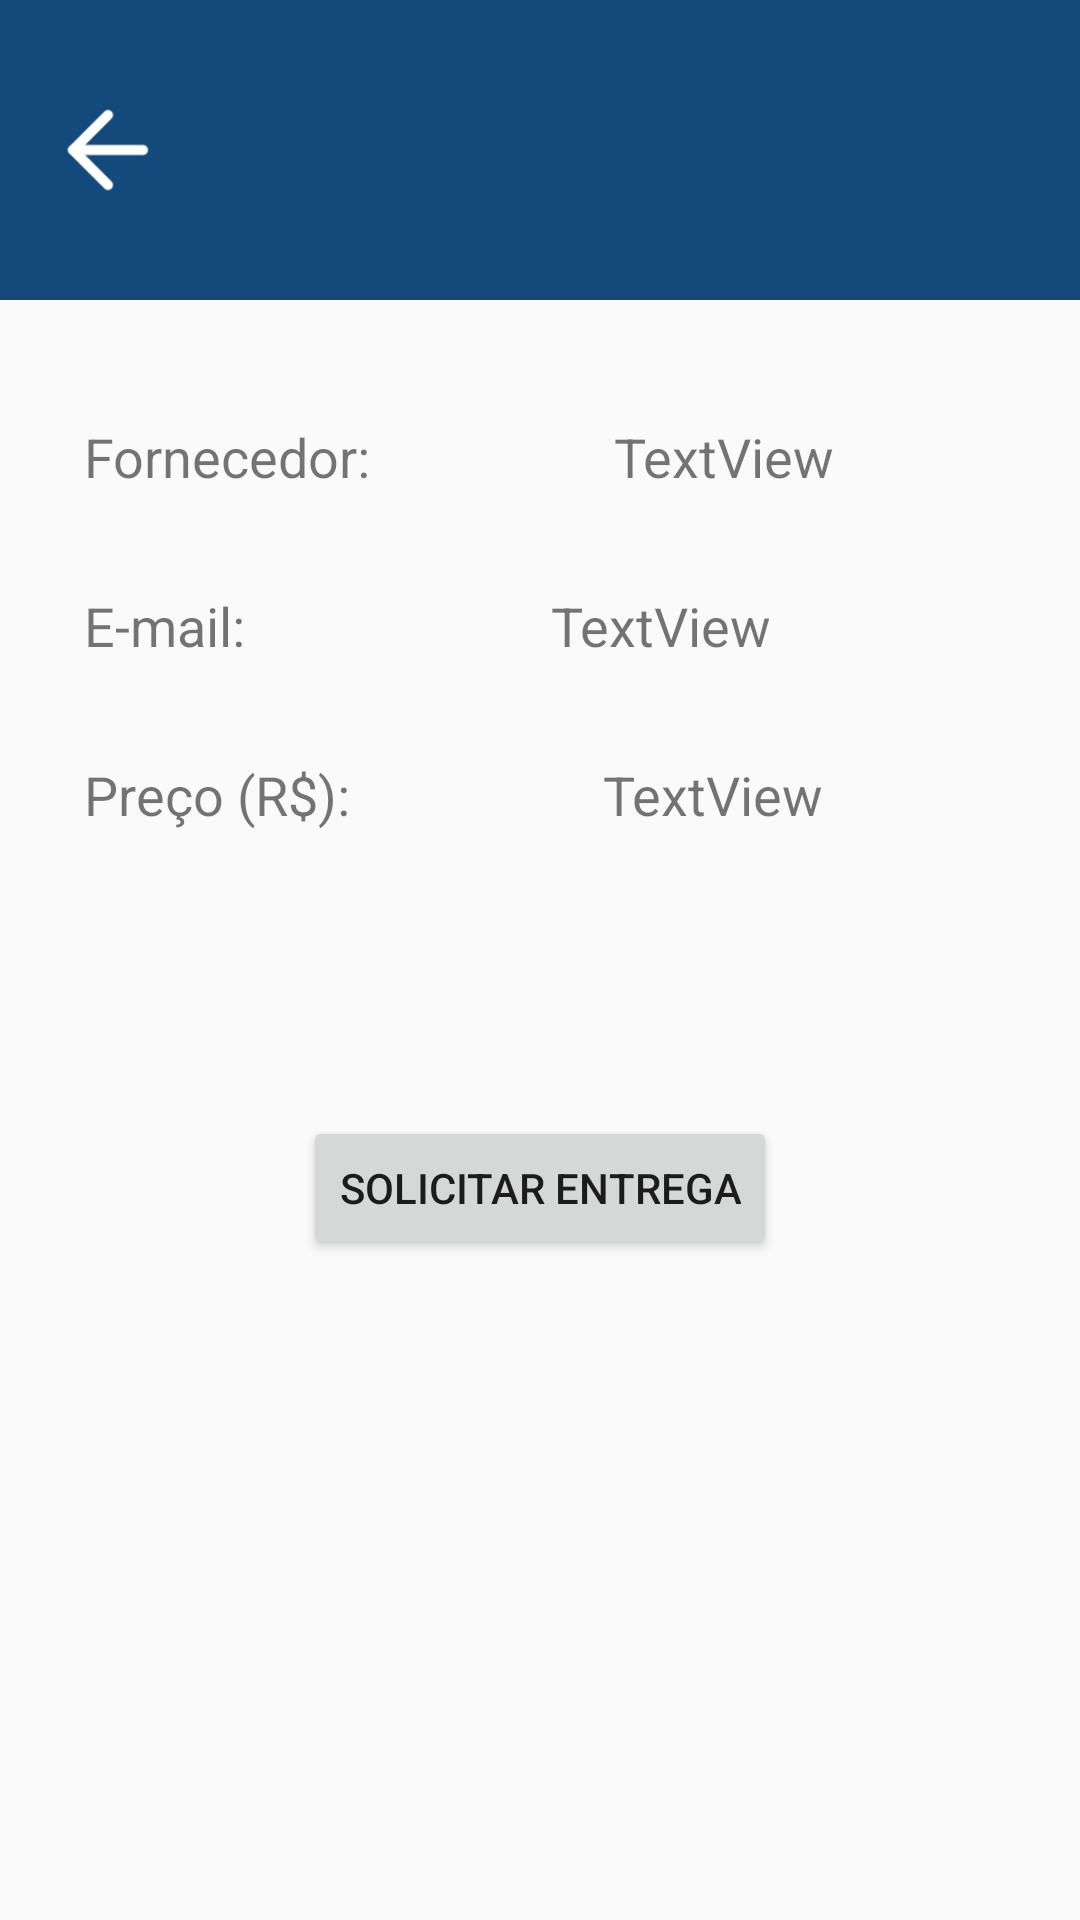

Icon click points for this 1080*1920 phone screenshot, format [x,y]:
Voltar: [108,150]
